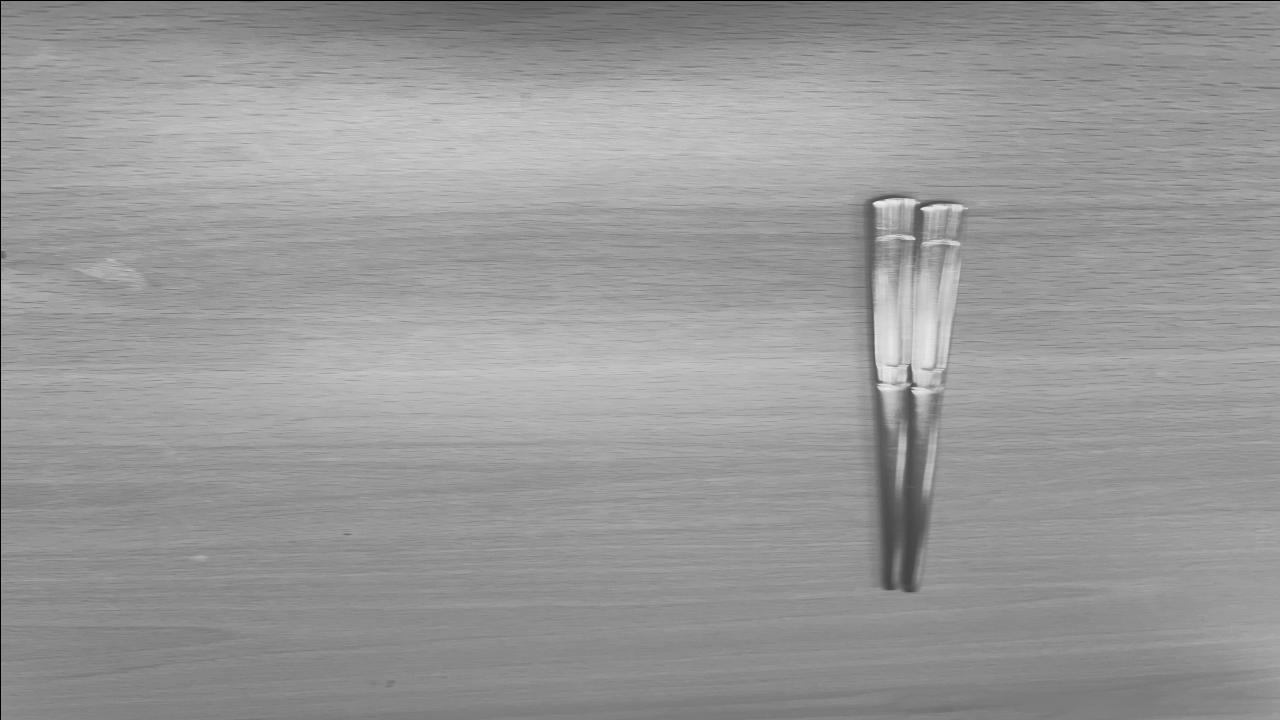chopstick: (874, 203, 960, 591)
